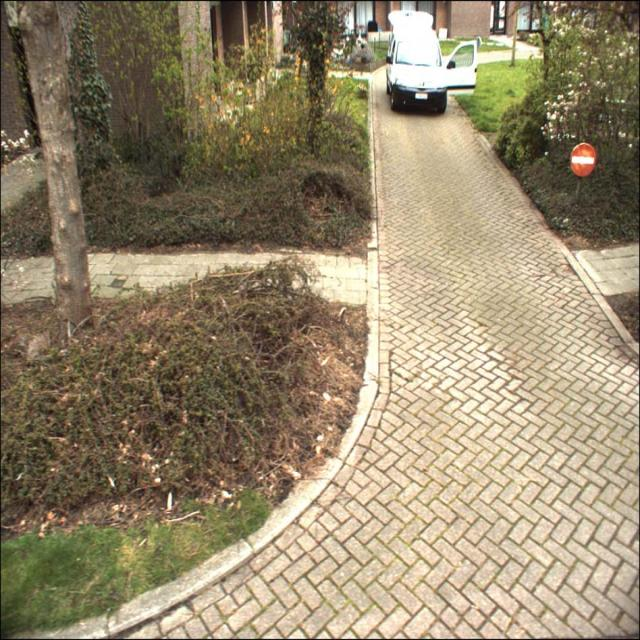girisyok: (570, 142, 596, 177)
